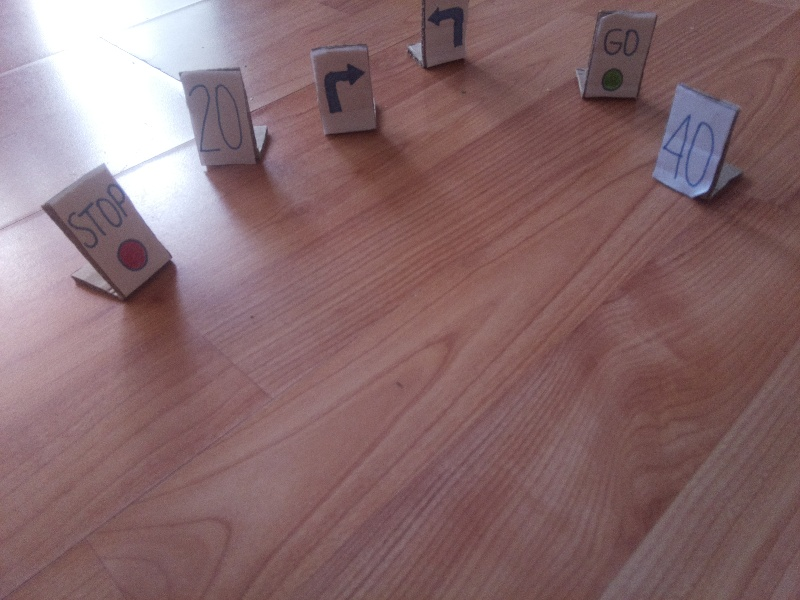20: (185, 79, 249, 158)
40: (662, 109, 715, 186)
go: (595, 24, 642, 93)
stop: (63, 182, 152, 276)
turn left: (428, 4, 468, 55)
turn right: (321, 61, 366, 120)
